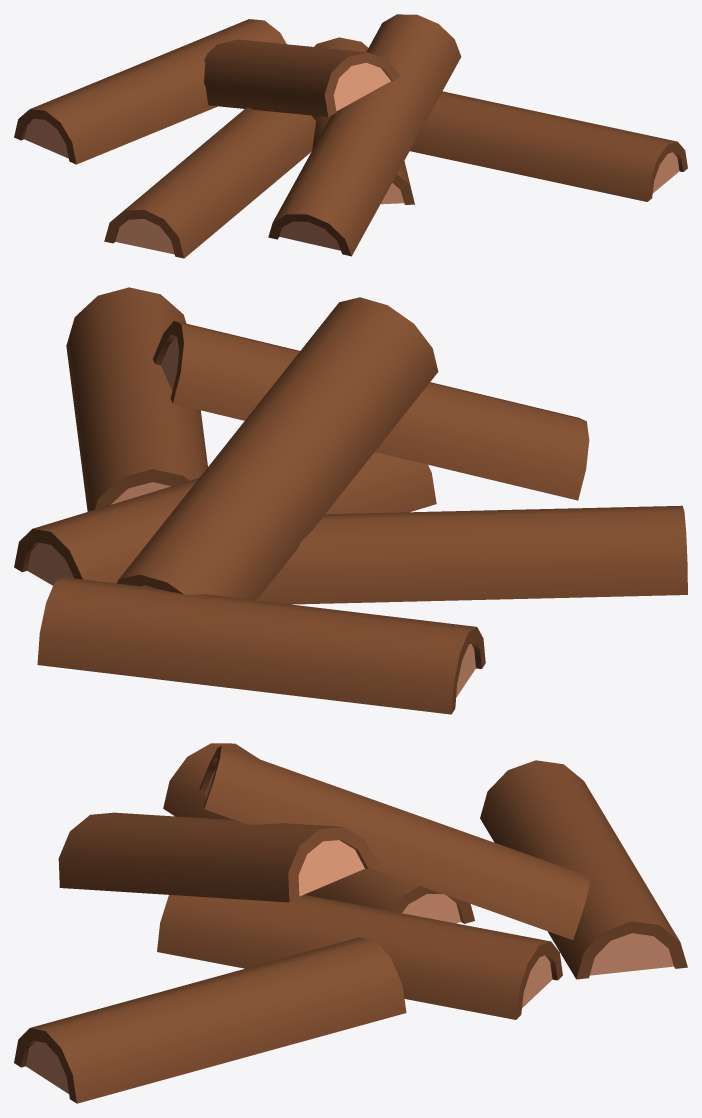
The model's file is Wood_C.fbx.
3 renders of one model, top to bottom at view 1: azimuth 30°, elevation 25°; view 2: azimuth 150°, elevation 25°; view 3: azimuth 270°, elevation 25°, orthographic. The views are drawn at different scales.
Parts seen in each view (by area): view 1: Wood_C; view 2: Wood_C; view 3: Wood_C.
Part boxes in pixels (x1,y1,x2,y2): Wood_C: [14, 14, 687, 258]; Wood_C: [14, 287, 687, 714]; Wood_C: [14, 743, 687, 1103].
Size of the model in its own units: 213 by 56.7 by 189.
